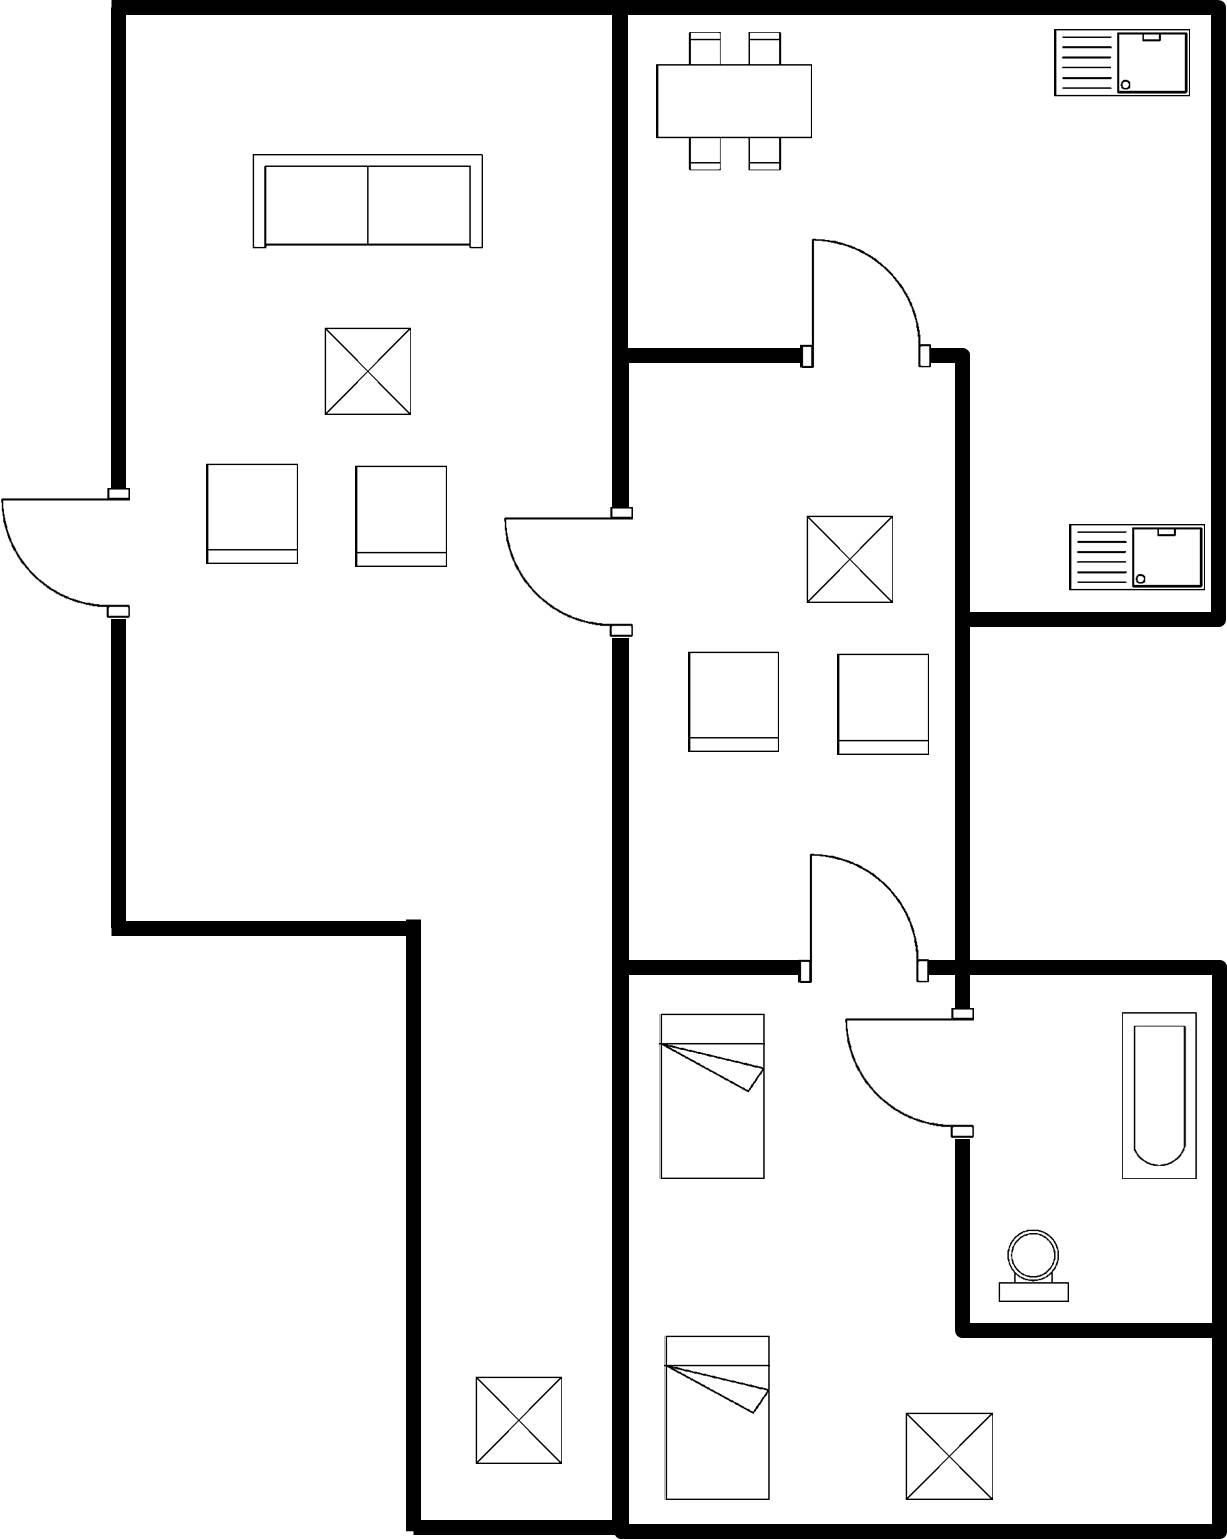bed: (645, 999, 780, 1188), (654, 1325, 780, 1511)
dining_table: (640, 20, 825, 187)
sink: (1039, 19, 1199, 110), (1057, 508, 1209, 597)
sofa: (239, 140, 495, 265)
toilet: (983, 1220, 1077, 1314)
tub: (1104, 999, 1207, 1193)
